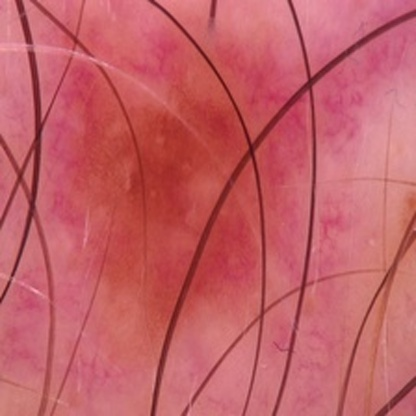benign: (82, 59, 303, 302)
